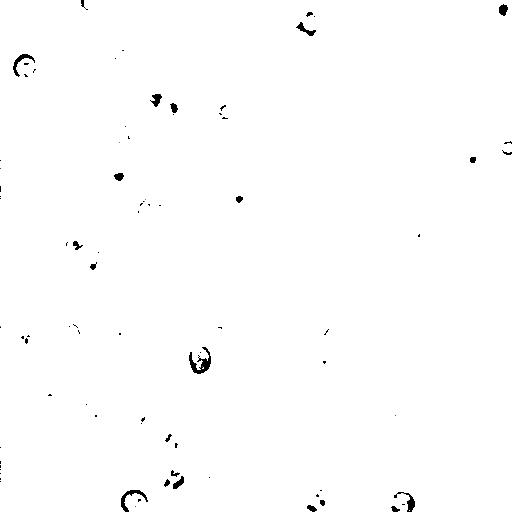micro-algae: (96, 88, 187, 178), (358, 110, 419, 175), (272, 7, 330, 62), (40, 365, 96, 420), (59, 216, 114, 266), (177, 426, 232, 474), (462, 462, 512, 512), (263, 439, 314, 486), (441, 0, 492, 45), (193, 306, 234, 352), (93, 154, 138, 193), (156, 85, 192, 128), (451, 142, 491, 178), (368, 397, 409, 430), (292, 484, 336, 512), (135, 195, 170, 230), (146, 426, 181, 461), (72, 247, 108, 278), (101, 46, 139, 75), (105, 118, 139, 150), (306, 345, 339, 377), (374, 439, 407, 471), (132, 408, 163, 441), (104, 310, 134, 344), (402, 219, 435, 249), (82, 392, 112, 424), (202, 464, 232, 491), (188, 344, 213, 375), (120, 488, 149, 512), (307, 314, 333, 340), (12, 53, 37, 80), (487, 0, 512, 27), (388, 490, 417, 512), (64, 232, 89, 256), (294, 17, 322, 38), (178, 26, 202, 50), (16, 327, 38, 353), (152, 468, 174, 494), (302, 2, 325, 25), (214, 99, 238, 120), (262, 94, 283, 117), (61, 321, 82, 344), (170, 469, 186, 490), (446, 78, 462, 96), (79, 0, 101, 12), (231, 193, 248, 208), (34, 0, 56, 11), (500, 138, 512, 156), (113, 0, 134, 5)
